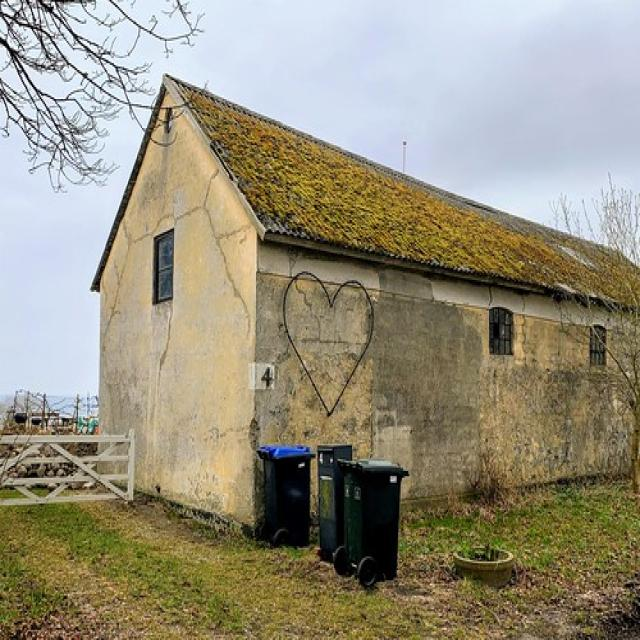building: (88, 70, 639, 531)
